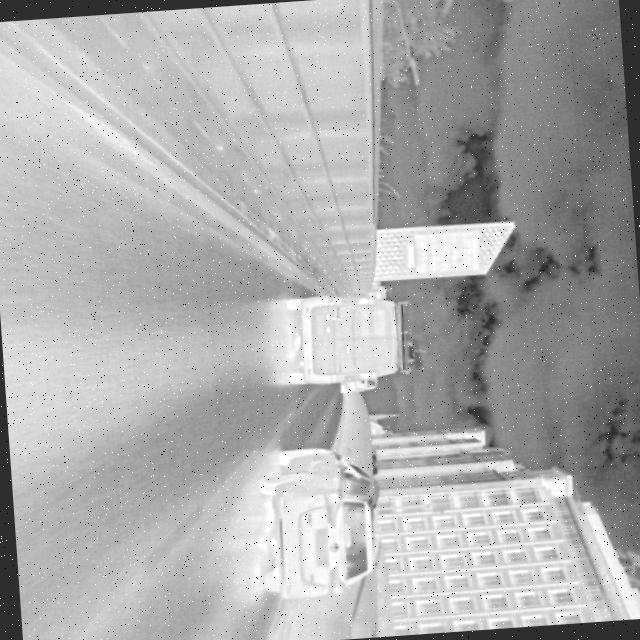Vehicle: (252, 440, 390, 603), (281, 286, 420, 394)
